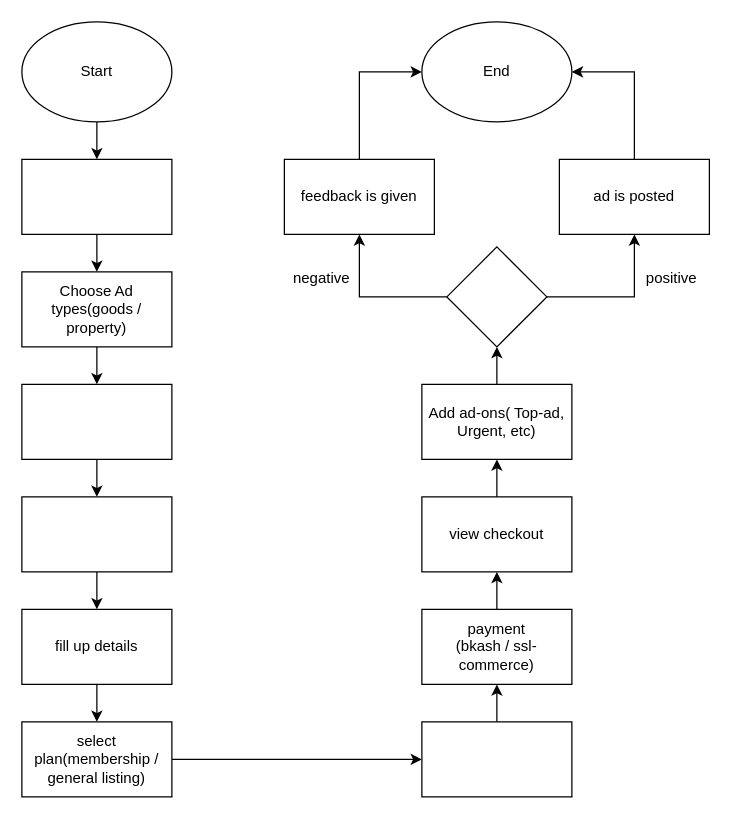
The diagram is 731 pixels wide and 819 high, and some of its shapes have lost their labels. Here are the shapes that lost their labels. From the top down, the centre of each, then its label:
point (96, 196): registered user click on Post Ad
point (496, 296): ad review
point (96, 421): choose Ad category and sub-category
point (96, 534): select location
point (496, 759): payment done - keep transaction details
